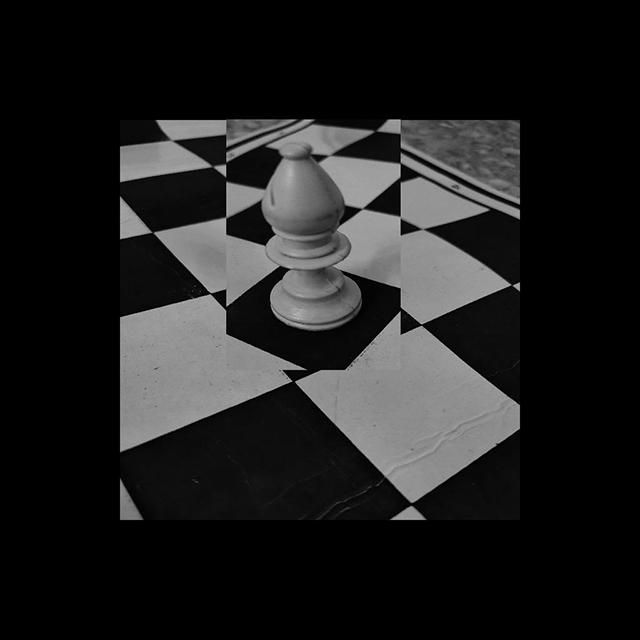white-bishop: (258, 139, 364, 332)
